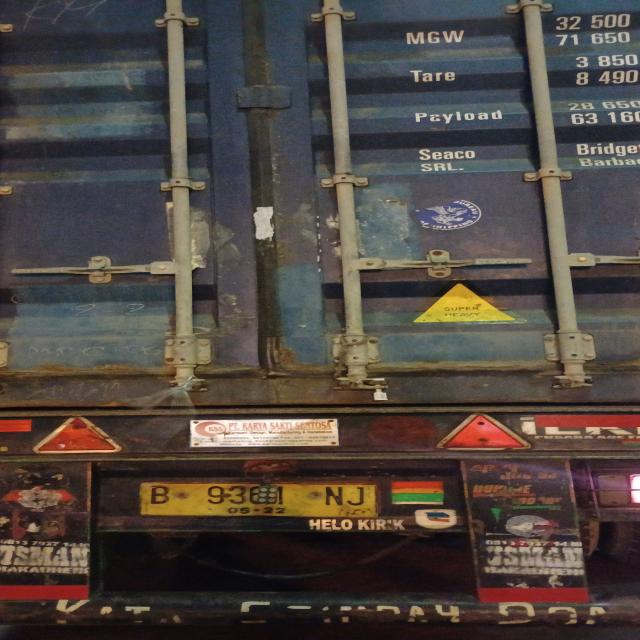seal: (364, 374, 396, 402)
